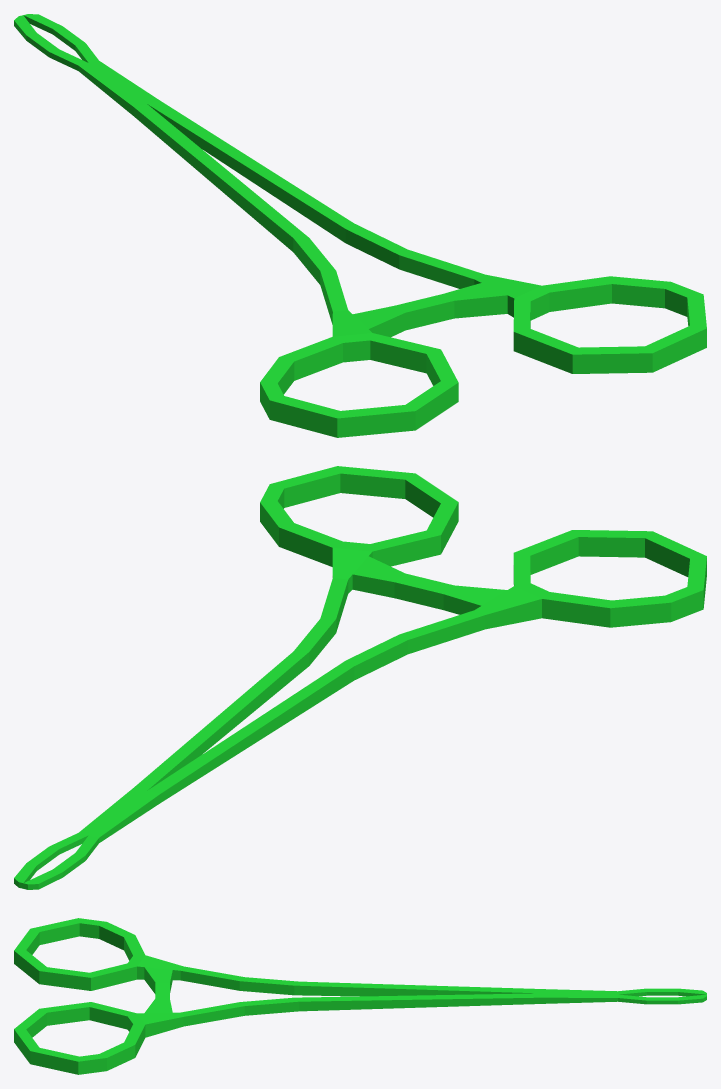
The model's file is Scissors_01.fbx.
The picture shows the model from 3 angles, top to bottom: view 1: azimuth 30°, elevation 25°; view 2: azimuth 150°, elevation 25°; view 3: azimuth 270°, elevation 25°; orthographic projection. The views are drawn at different scales.
Visible parts, largest first — view 1: Scissors_01; view 2: Scissors_01; view 3: Scissors_01.
Boxes of the visible parts, left/top/right/bottom form: Scissors_01: left=14, top=14, right=706, bottom=437; Scissors_01: left=14, top=466, right=706, bottom=889; Scissors_01: left=14, top=918, right=706, bottom=1074.
Size of the model in its own units: 9.98 by 0.4281 by 20.36.
